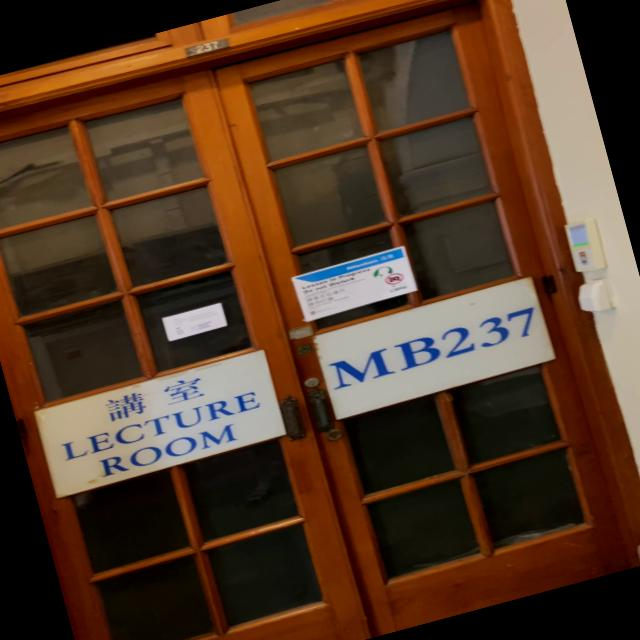room237: (173, 29, 239, 65)
room237Window: (325, 299, 545, 395)
